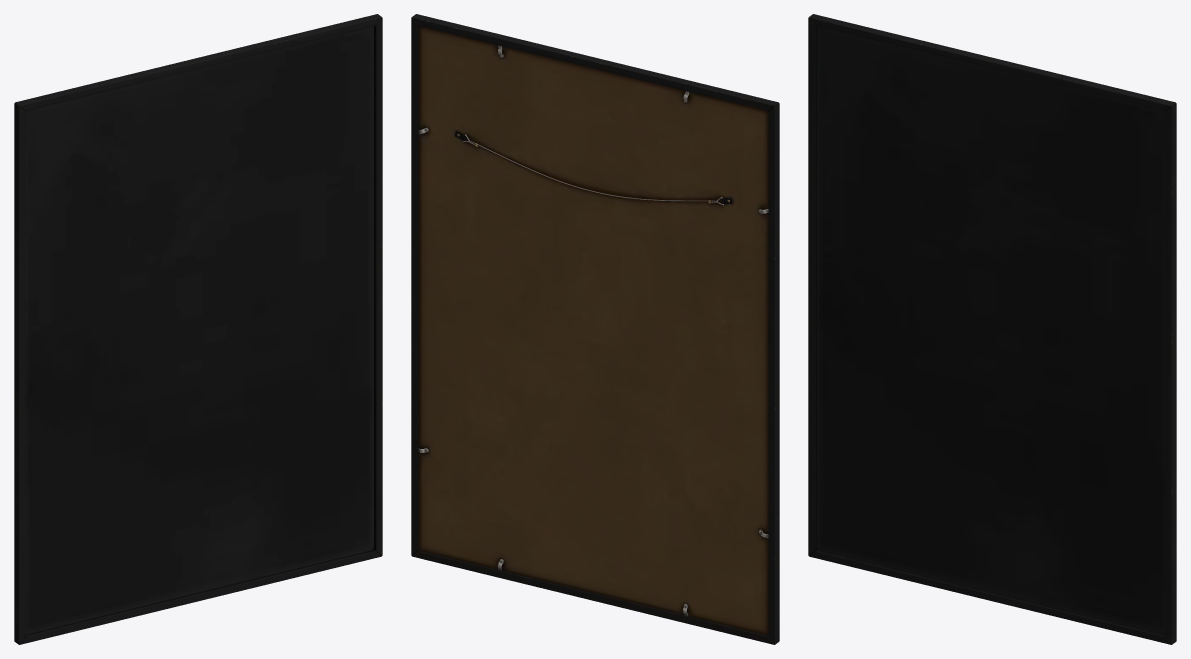
File: hanging_picture_frame_01.glb
3 views of the same model, side by side, from view 1: azimuth 30°, elevation 25°; view 2: azimuth 150°, elevation 25°; view 3: azimuth 330°, elevation 25° (orthographic).
Parts seen in each view (by area): view 1: hanging_picture_frame_01; view 2: hanging_picture_frame_01; view 3: hanging_picture_frame_01.
Part boxes in pixels (bbox=[...]): hanging_picture_frame_01: bbox=[14, 14, 382, 644]; hanging_picture_frame_01: bbox=[411, 14, 779, 644]; hanging_picture_frame_01: bbox=[808, 14, 1176, 644].
Size of the model in its own units: 0.594 by 0.841 by 0.0157.
Materials: 3 (3 with a texture image).
